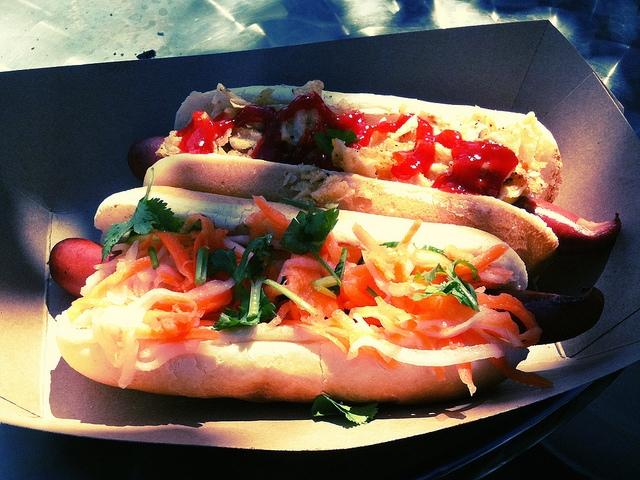tomato: (274, 252, 342, 321), (388, 294, 478, 322), (342, 264, 387, 308), (454, 244, 510, 276), (195, 288, 232, 318), (160, 272, 181, 288)
